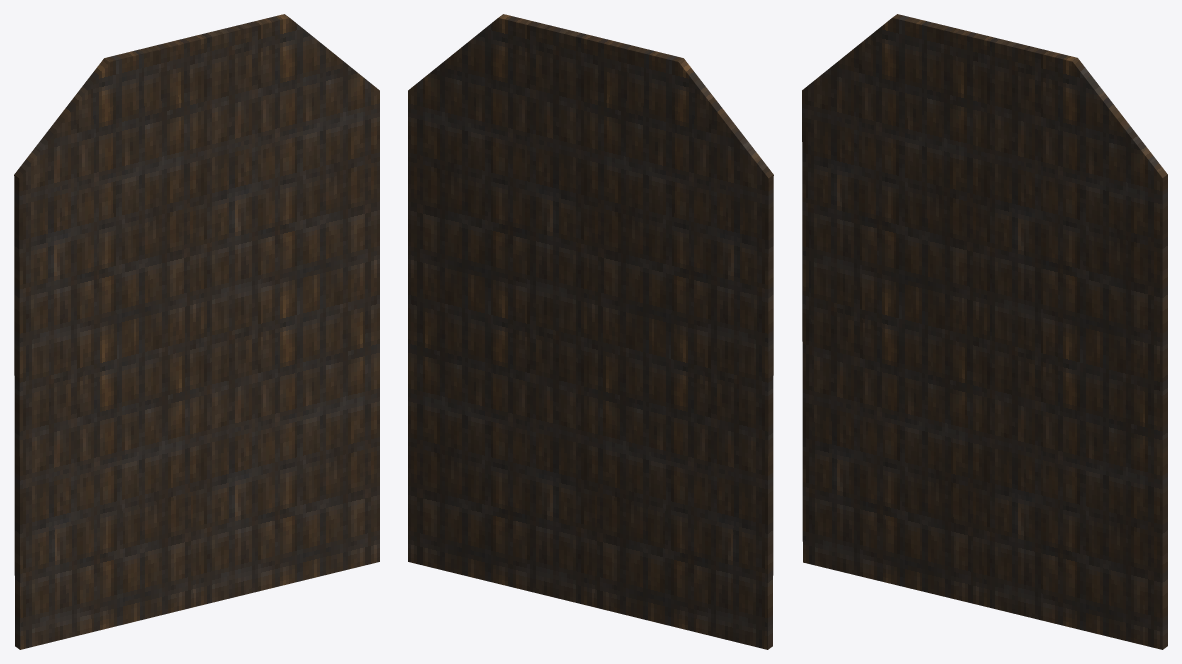
The model's file is Door.fbx.
3 renders of one model, left to right at view 1: azimuth 30°, elevation 25°; view 2: azimuth 150°, elevation 25°; view 3: azimuth 330°, elevation 25°, orthographic.
Visible parts, largest first — view 1: Door; view 2: Door; view 3: Door.
Boxes of the visible parts, x1=… form: Door: x1=14, y1=14, x2=379, y2=649; Door: x1=408, y1=14, x2=773, y2=649; Door: x1=802, y1=14, x2=1167, y2=649.
Bounding box in the file's own units: 200 × 300 × 5.
